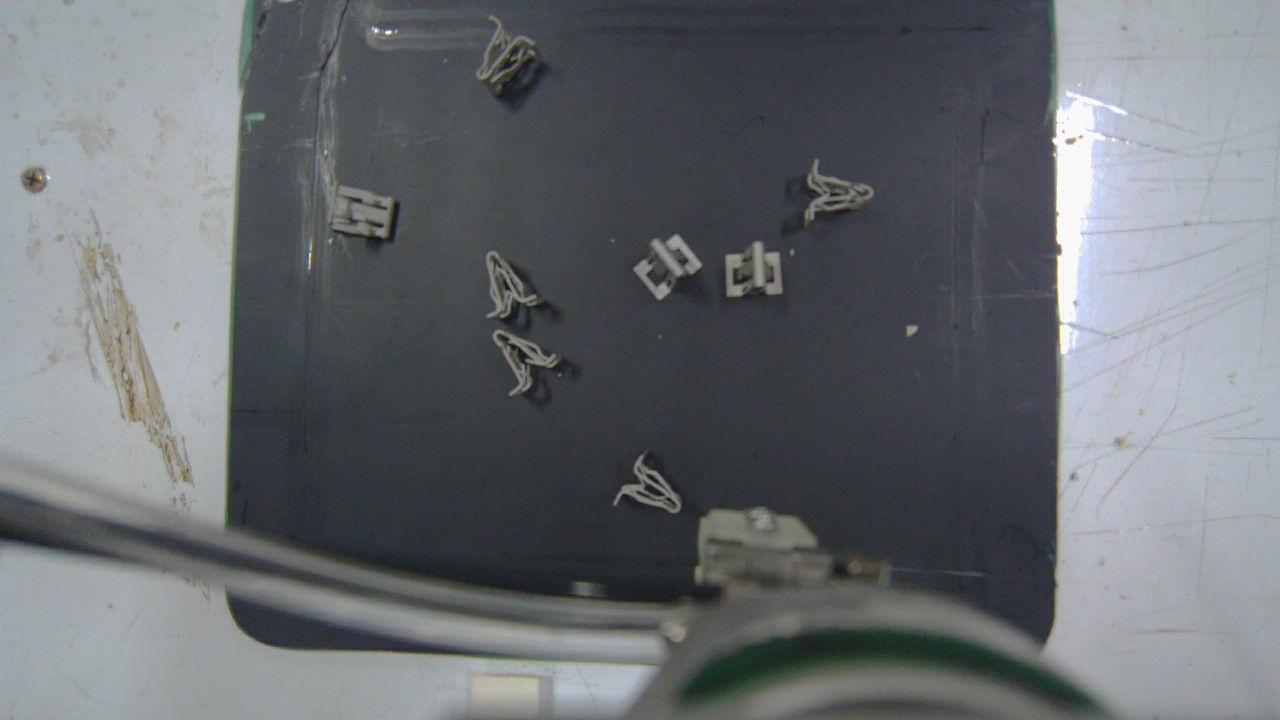ng: (480, 18, 541, 95), (802, 161, 874, 225), (492, 332, 559, 398), (612, 453, 680, 515), (327, 180, 395, 240), (485, 253, 540, 321)
pass: (633, 237, 703, 302), (727, 243, 781, 295)
